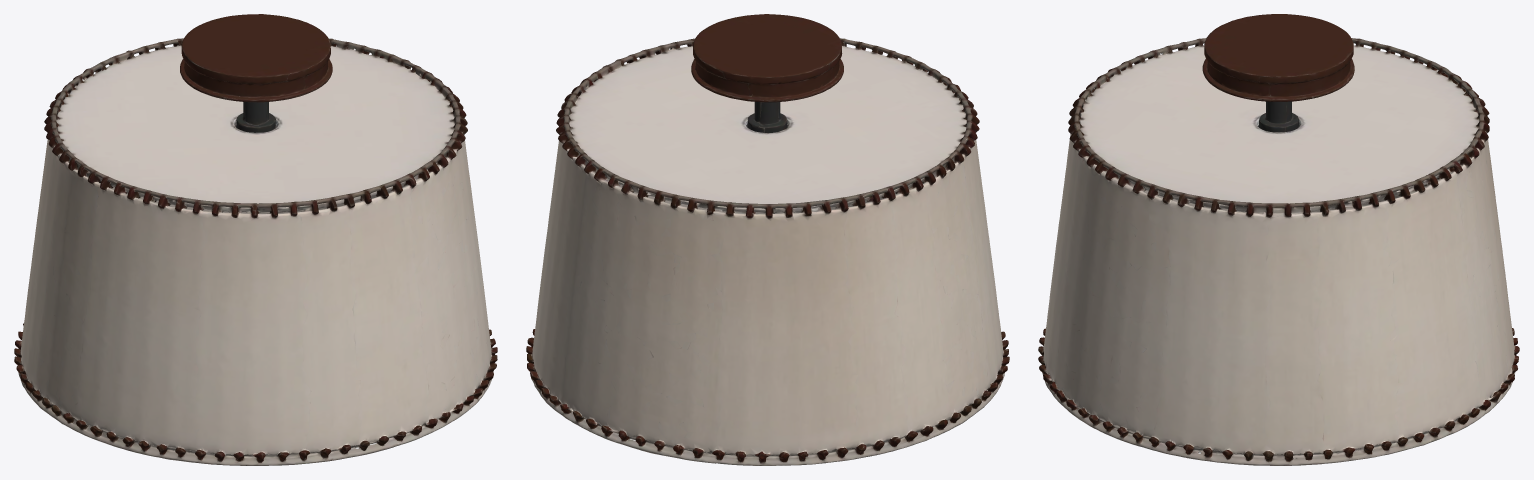
The model's file is Fabric Drum Semi-Flush Mount Ceiling Light with Decorative Lacing [sC0eN-].glb.
3 renders of one model, left to right at view 1: azimuth 30°, elevation 25°; view 2: azimuth 150°, elevation 25°; view 3: azimuth 270°, elevation 25°, orthographic.
Visible parts, largest first — view 1: world; view 2: world; view 3: world.
Boxes of the visible parts, bbox=[...] form: world: bbox=[14, 14, 497, 465]; world: bbox=[526, 14, 1009, 465]; world: bbox=[1038, 14, 1519, 465].
Size of the model in its own units: 1 by 0.794 by 1.
Materials: 1 (1 with a texture image).
